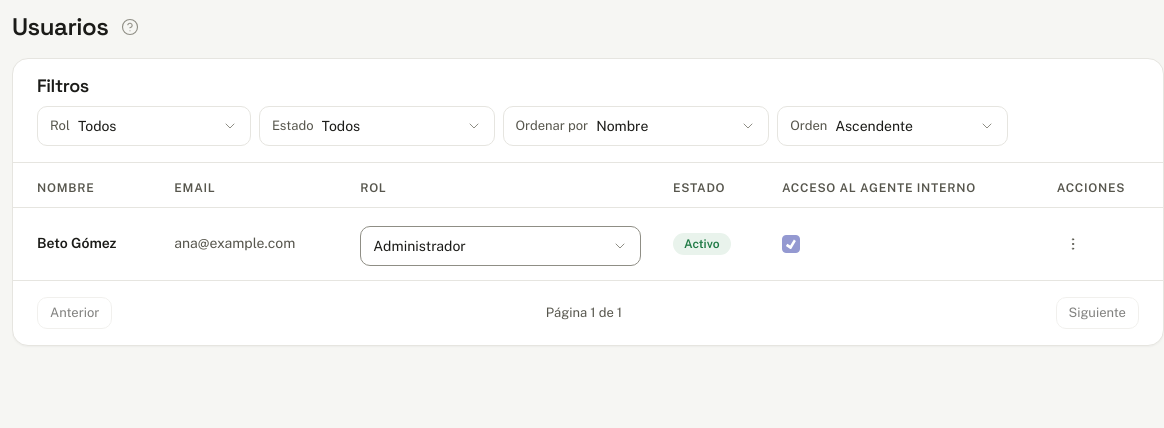
Scenario: UserListPage › eliminar: confirma, ejecuta la mutation y muestra error real si falla
expect the text "Beto Gómez" is shown: met, box [13, 207, 158, 280]
Click the button named "Más acciones".
click(1073, 244)  # box [1057, 228, 1089, 260]
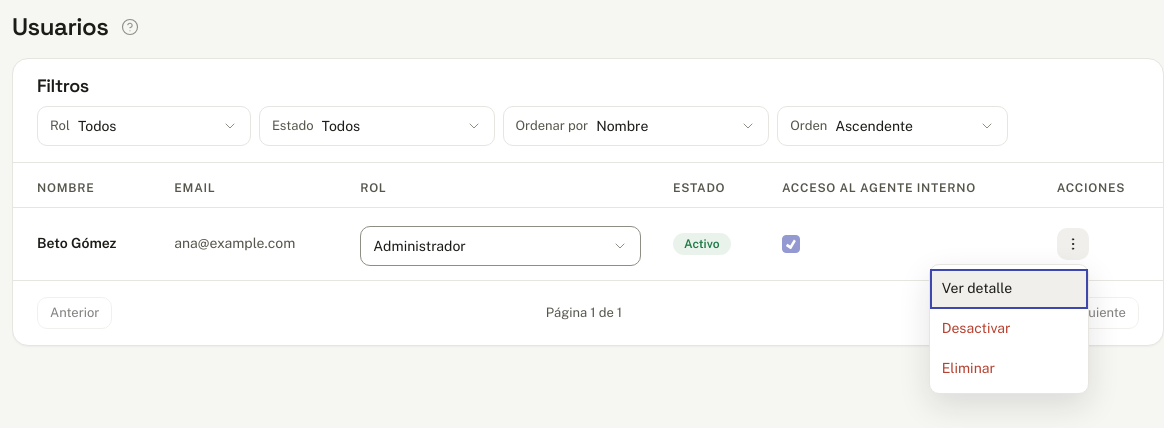
Click the menu item "Eliminar".
click(1009, 368)  # box [930, 348, 1088, 388]
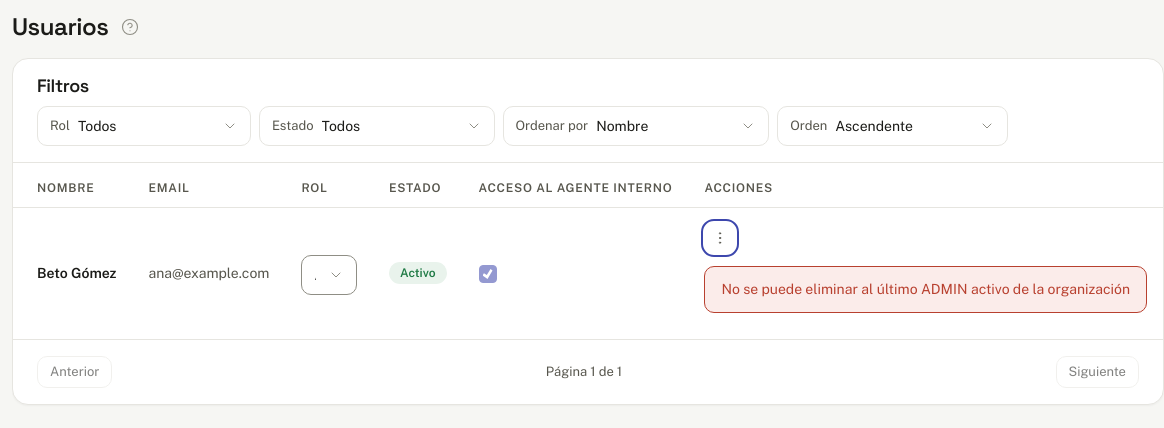
expect the text "No se puede eliminar al último ADMIN activo de la organización" is shown: met, box [704, 266, 1147, 312]
